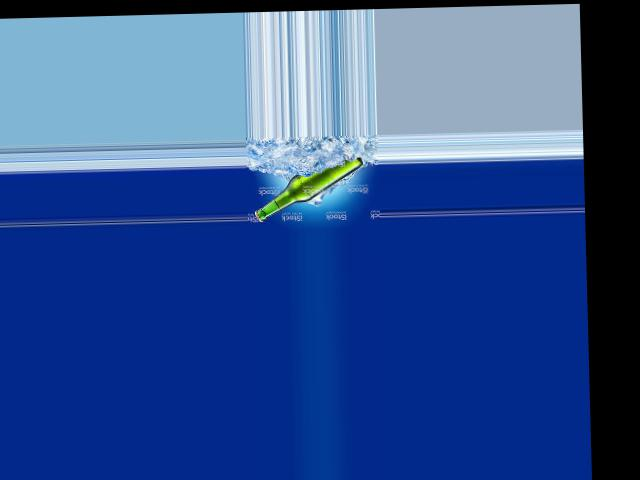beer: (251, 156, 364, 222)
